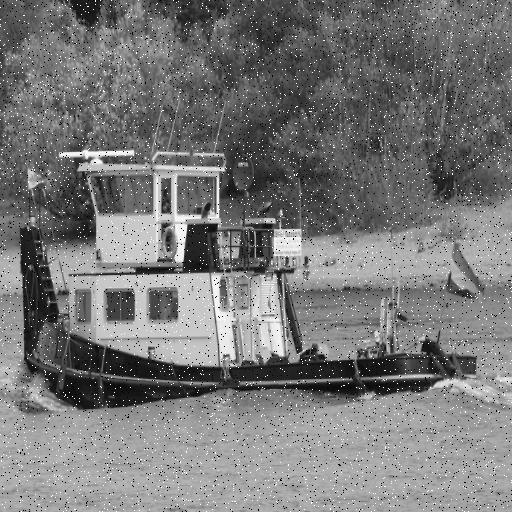tugboat: (17, 143, 491, 422)
